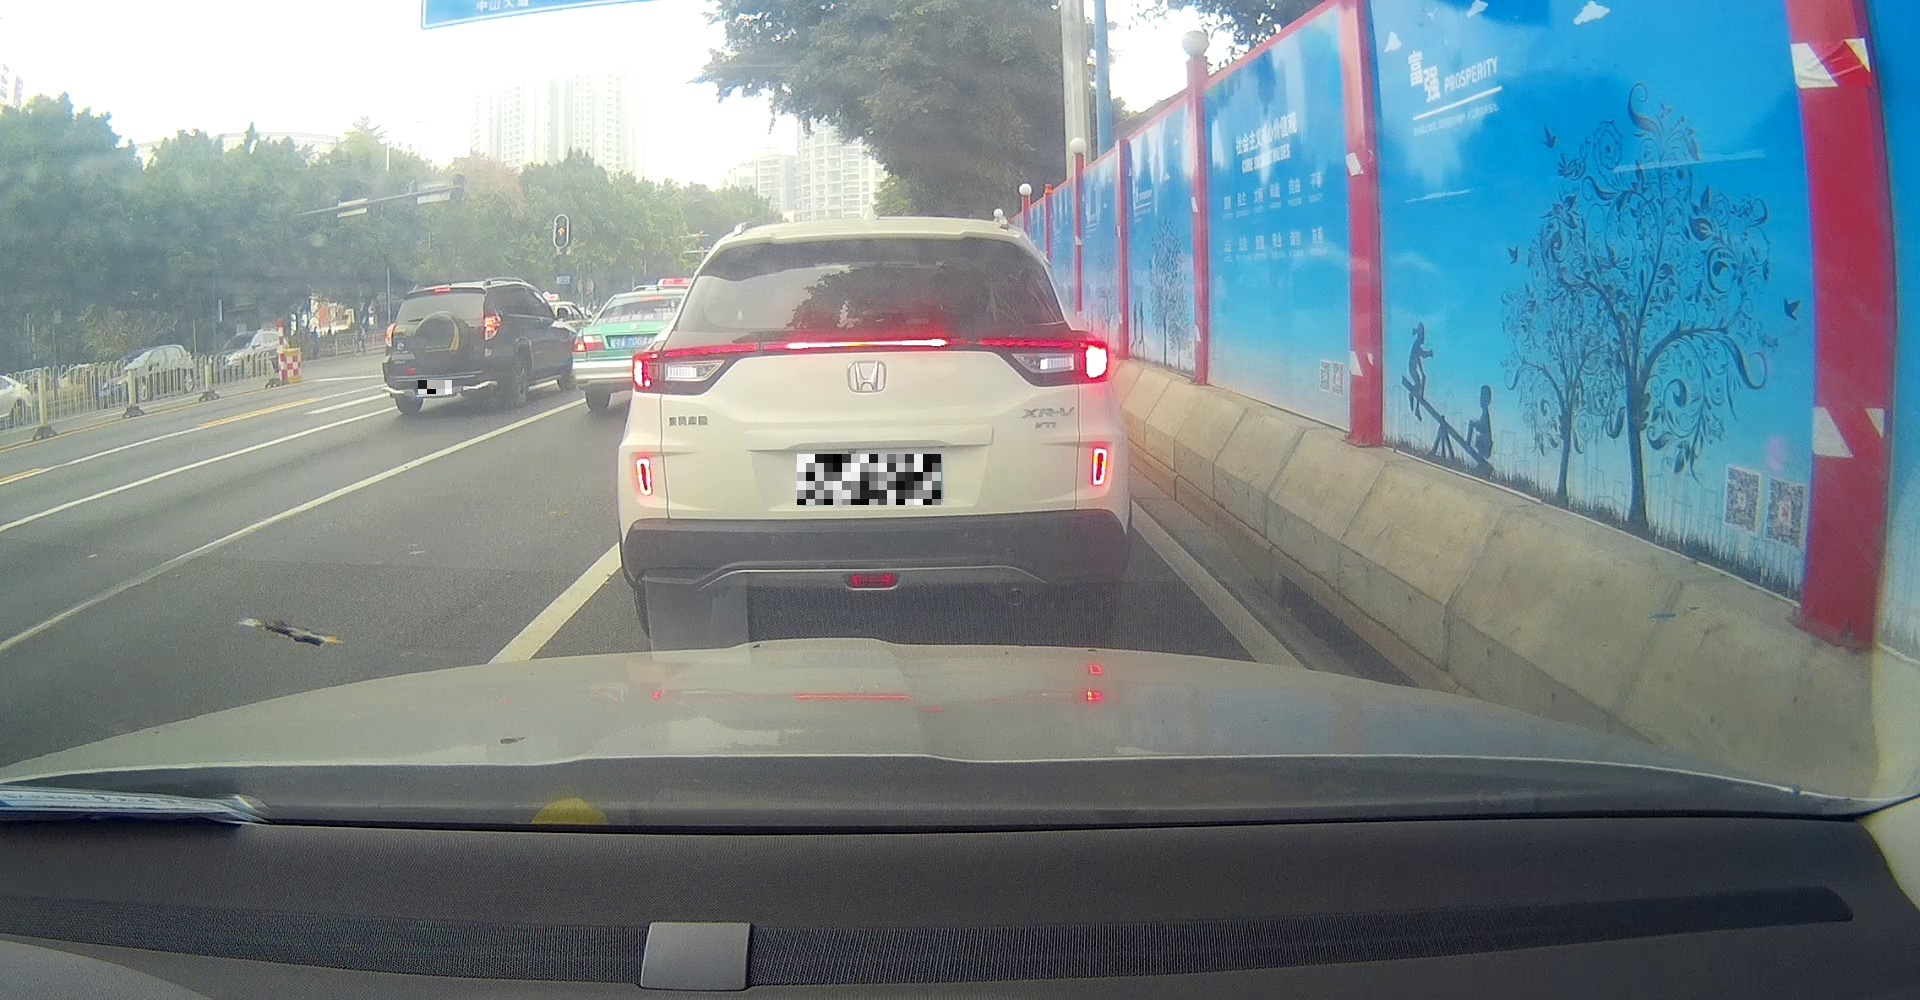L_light: (629, 343, 756, 395), (383, 322, 397, 348)
R_light: (982, 334, 1110, 387), (483, 313, 502, 341)
T_light: (764, 338, 964, 352), (434, 287, 451, 293)
day-brake: (616, 214, 1129, 642), (381, 283, 508, 416)
plate_1: (418, 379, 452, 393)
plate_2: (797, 454, 941, 505)
